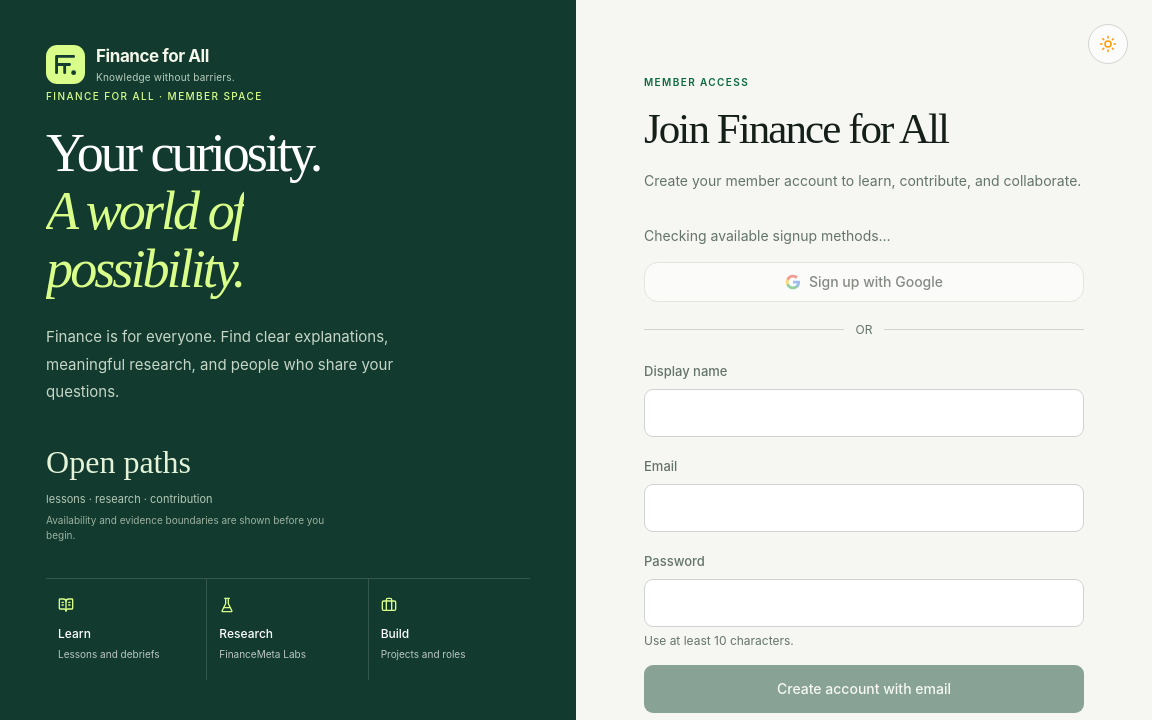
Scenario: member signup flow › waits for email confirmation when signup returns no session
Type "  Ada Student  " into the field labelled "Display name" at point(864, 413), box [644,389,1084,437]
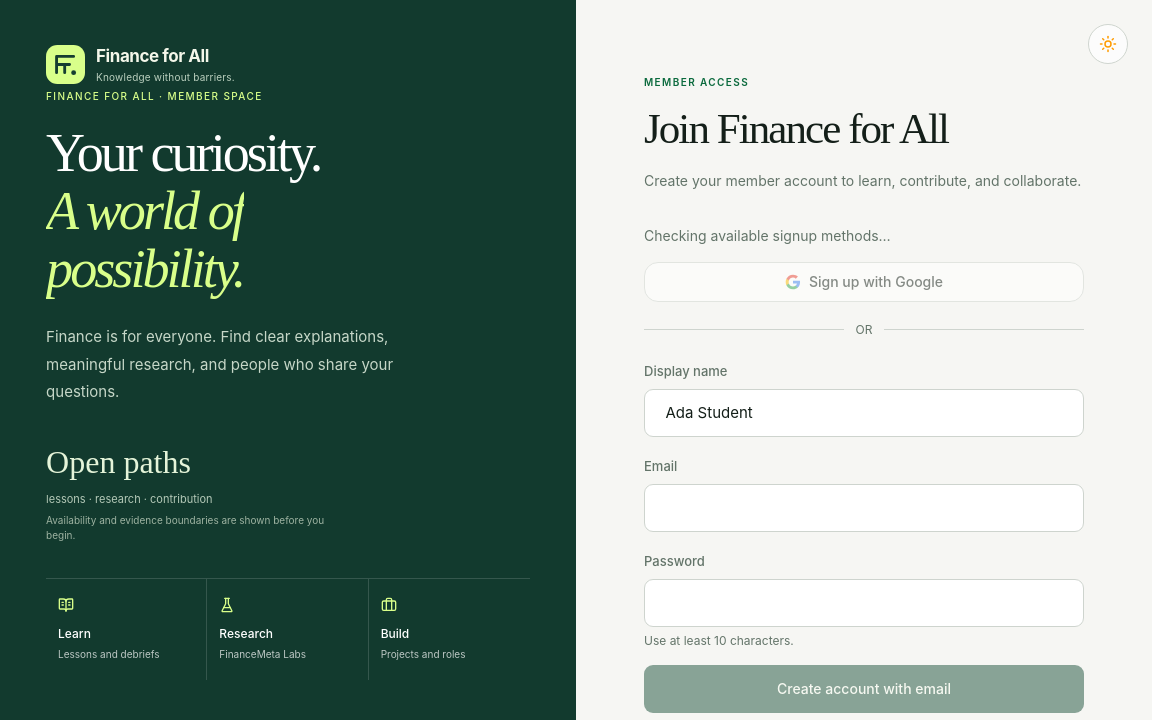
Type "  ada@example.com  " into the field labelled "Email" at point(864, 508), box [644,484,1084,532]
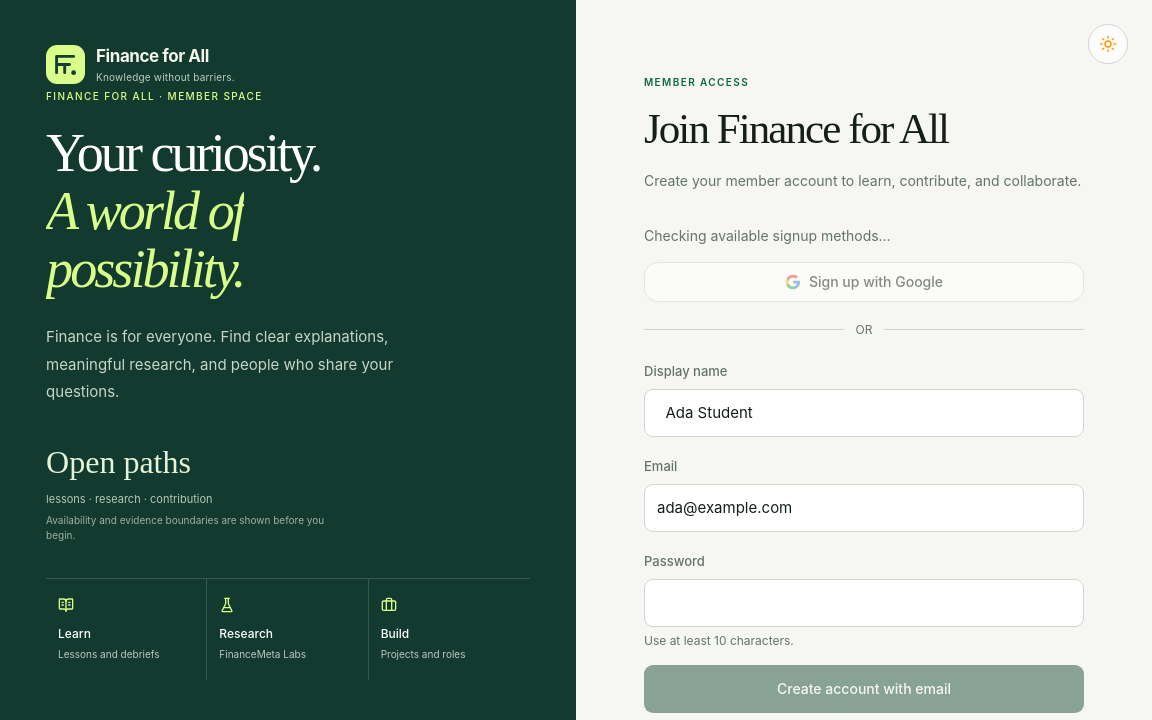
Type "a-secure-password" into the password field labelled "Password" at point(864, 603), box [644,579,1084,627]
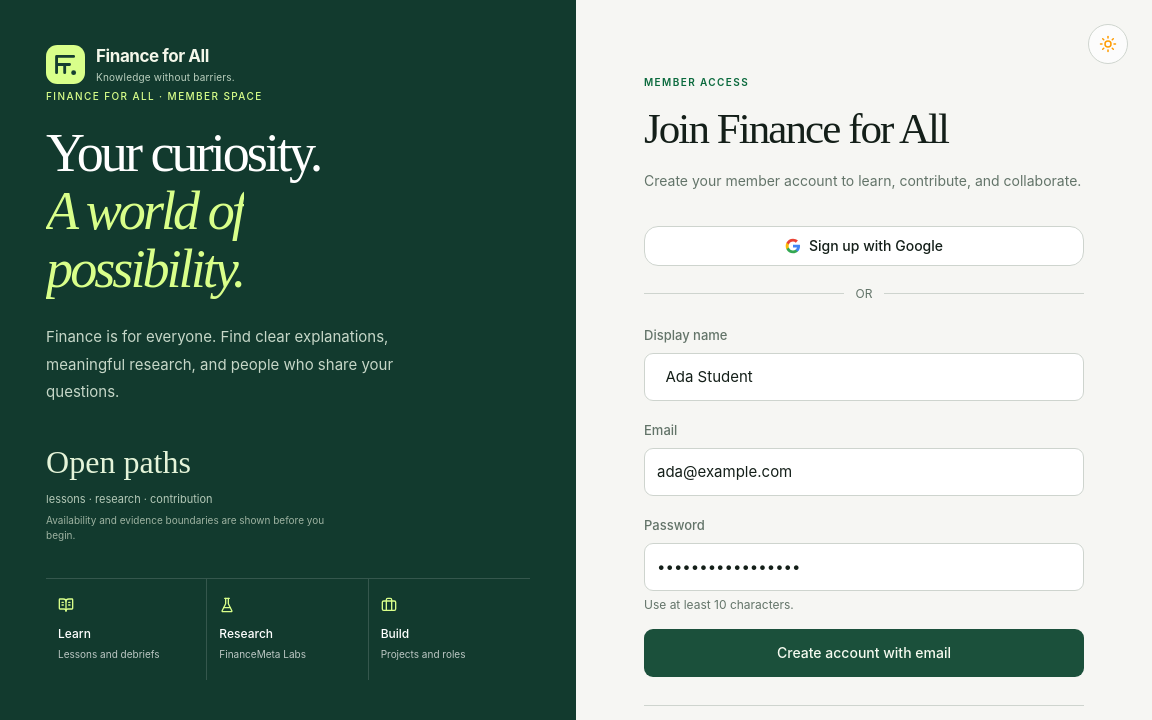
Result: the button "Create account with email" is enabled
Click the button "Create account with email" at point(864, 653), box [644,629,1084,677]
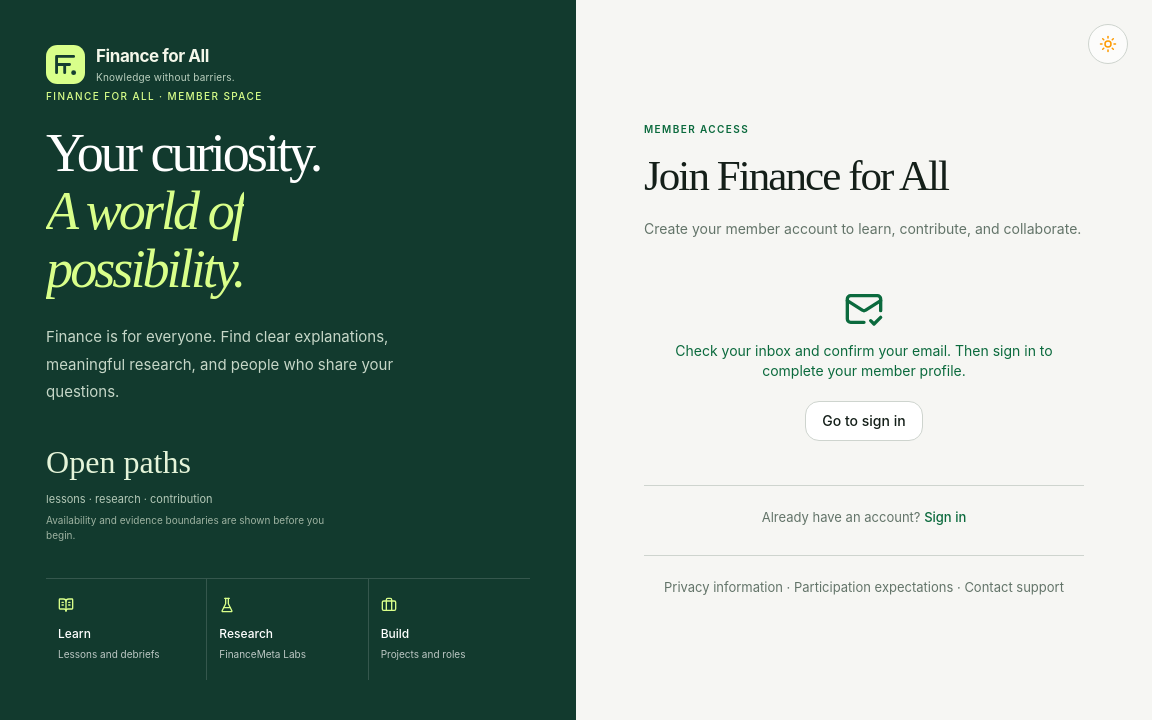
Result: the text "Check your inbox and confirm your email" is shown at [675,342,1053,379]
